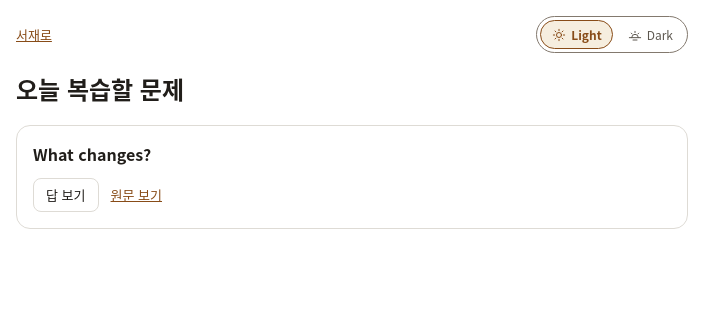
it: refreshes after HTTP 404 and can discover another due card from the empty queue
Click the button "답 보기": x=66, y=195 [33,178,98,212]
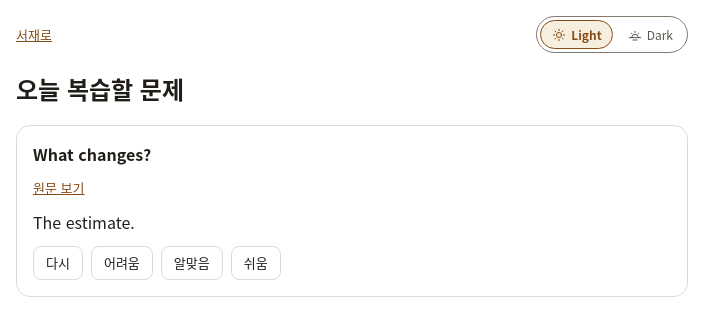
Click the button "알맞음": x=192, y=263 [161,246,223,280]
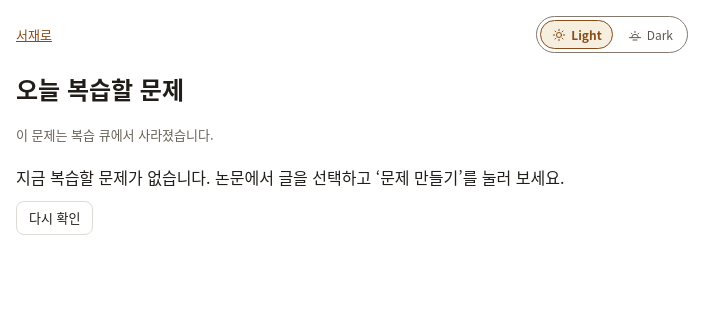
Expected: the text "지금 복습할 문제가 없습니다. 논문에서 글을 선택하고 ‘문제 만들기’를 눌러 보세요." is shown, [16,165,564,189]
Expected: the message shows "사라졌습니다", [16,125,214,144]
Click the button "다시 확인": x=55, y=218 [16,201,94,235]
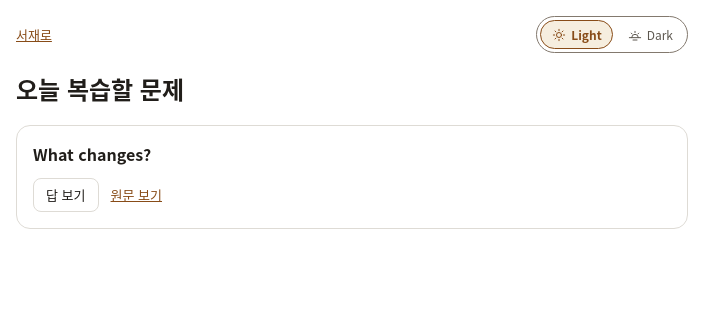
Expected: the heading "What changes?" is shown, [33,142,151,166]
